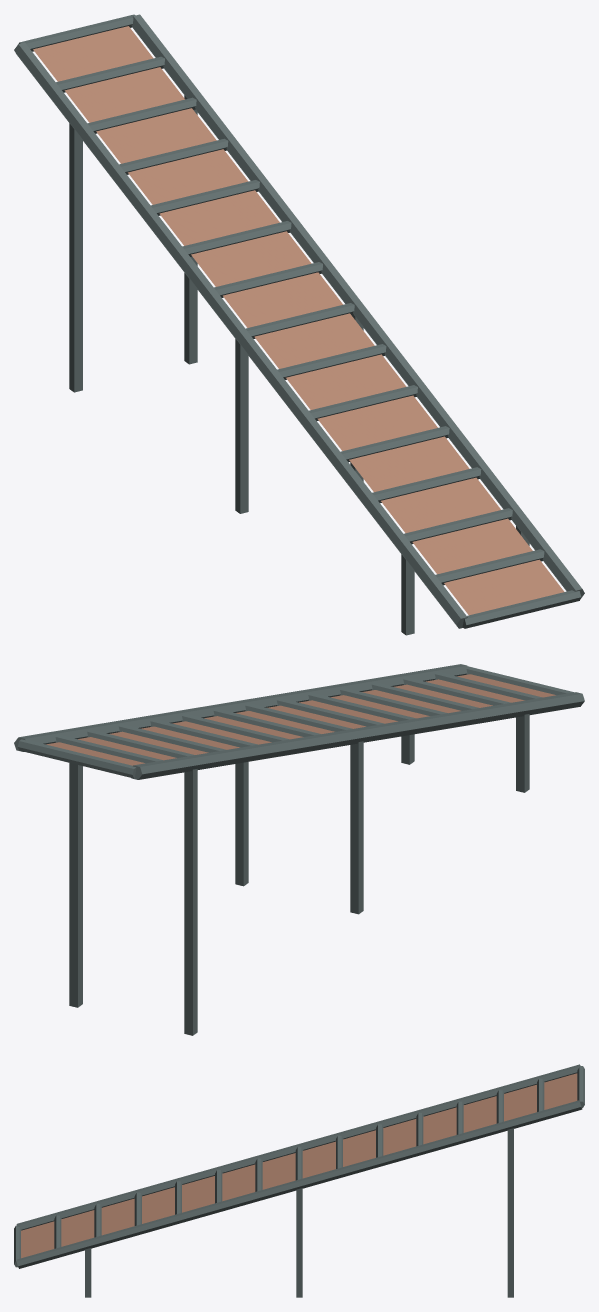
The picture shows the model from 3 angles, top to bottom: view 1: azimuth 30°, elevation 25°; view 2: azimuth 150°, elevation 25°; view 3: azimuth 270°, elevation 25°; orthographic projection. The views are drawn at different scales.
Bounding box in the file's own units: 2.68 × 6.12 × 16.22.
